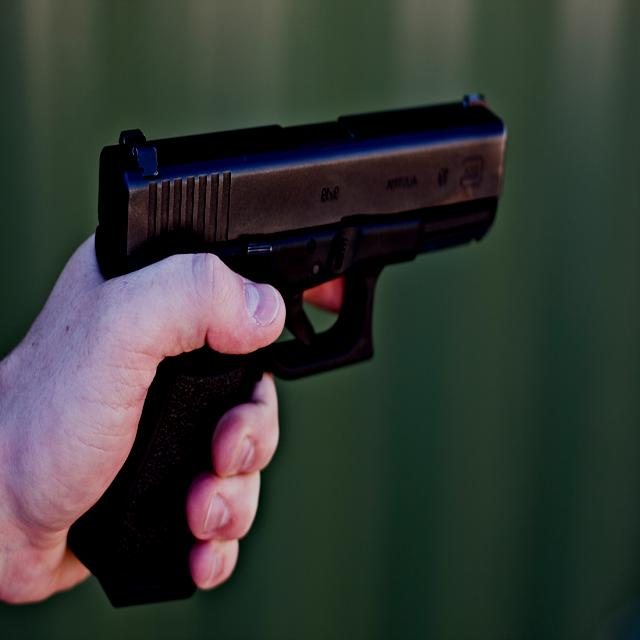pistol: (55, 90, 521, 603)
